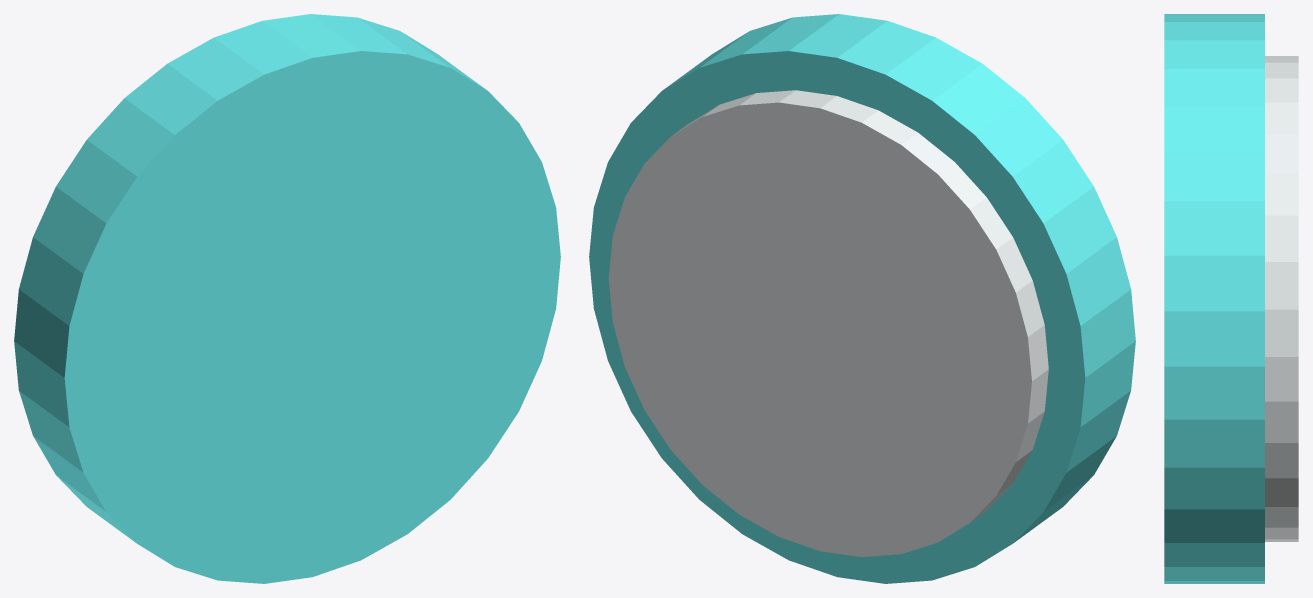
Rendered from ceiling-light-led.glb.
3 views of the same model, side by side, from view 1: azimuth 30°, elevation 25°; view 2: azimuth 150°, elevation 25°; view 3: azimuth 270°, elevation 25° (orthographic).
Visible parts, largest first — view 1: world; view 2: world; view 3: world.
Boxes of the visible parts, x1=… form: world: x1=14, y1=14, x2=560, y2=583; world: x1=589, y1=14, x2=1135, y2=583; world: x1=1164, y1=14, x2=1298, y2=583.
Size of the model in its own units: 0.68 by 0.68 by 0.16.
